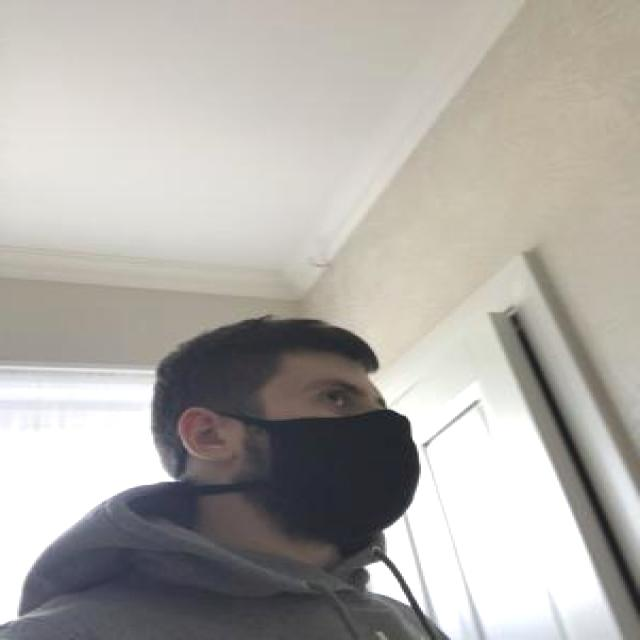face_mask: (257, 368, 423, 539)
head_nohelmet: (145, 298, 406, 376)
